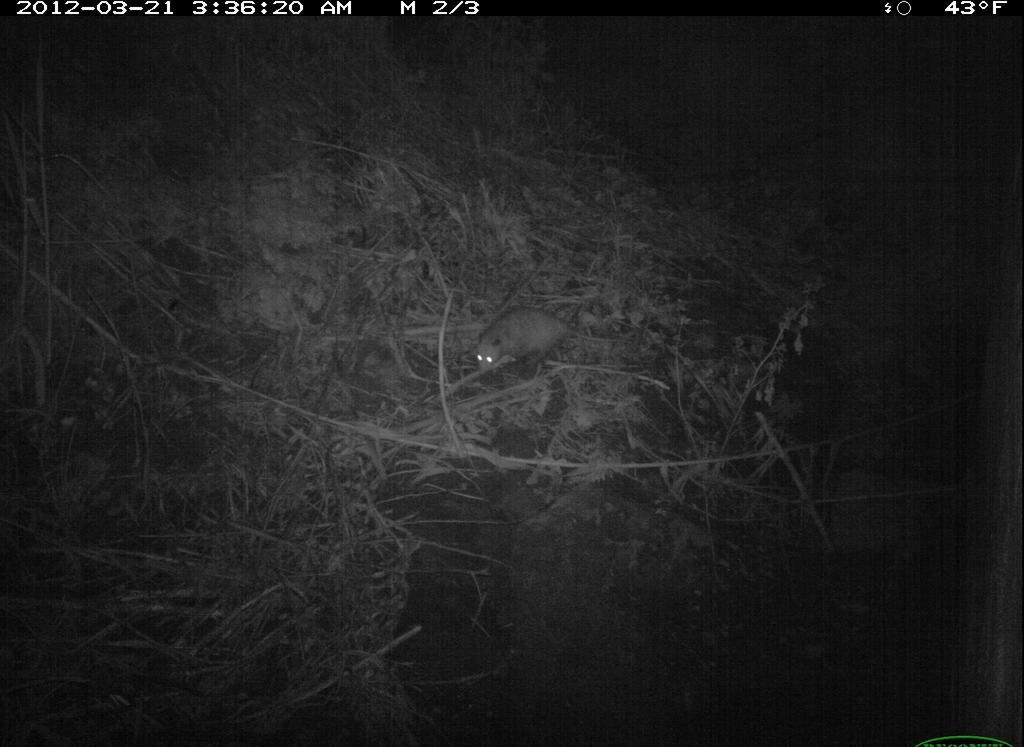opossum: (475, 304, 635, 383)
